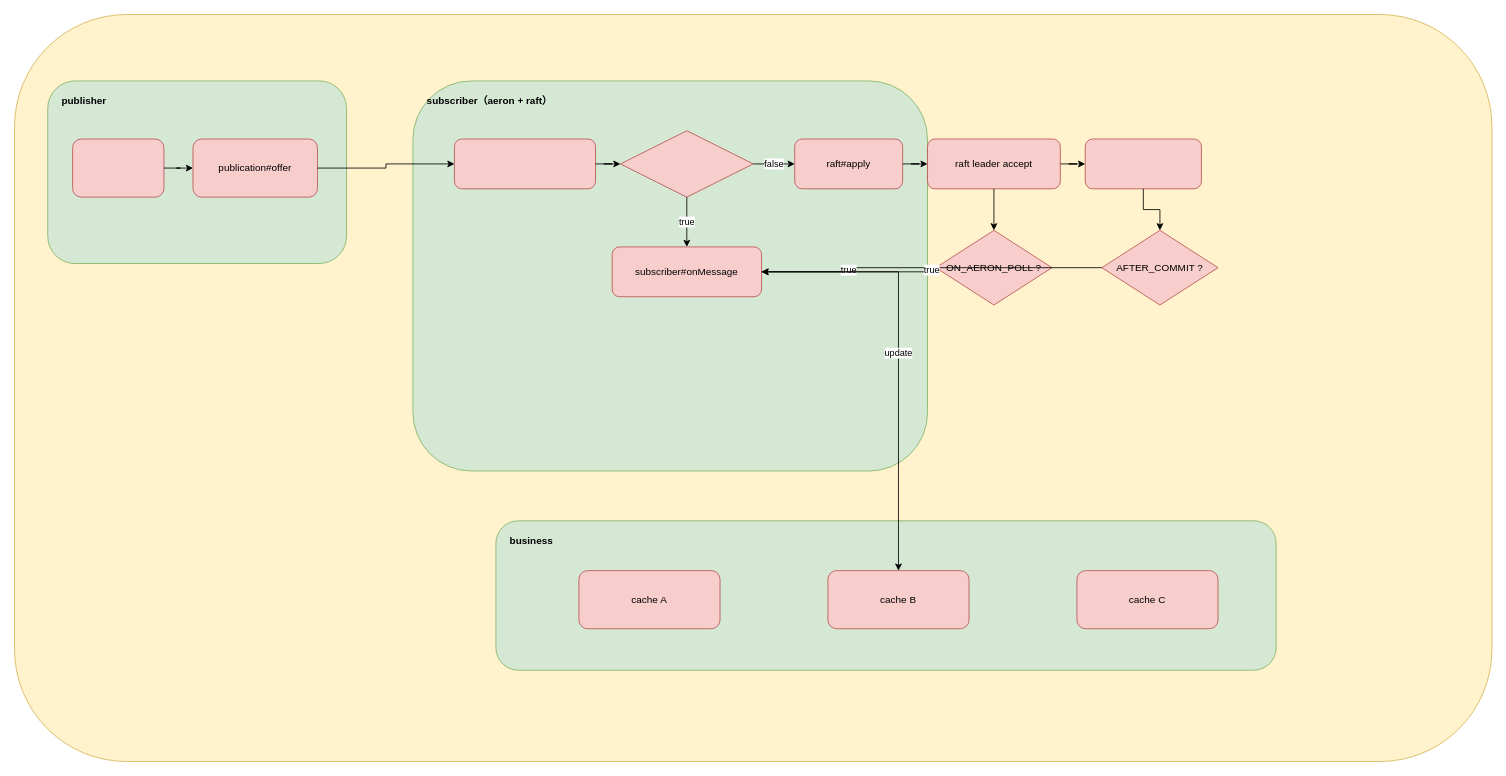
This 1506x776 diagram has some shape labels left out. Here are the shapes that lost their labels. From the top down, the centre of each, then its label:
At (118,167): "call business".
At (525,163): "subscription#poll".
At (686,163): "raftApplyMode == DISABLE ?".
At (1142,163): "raft commit".
